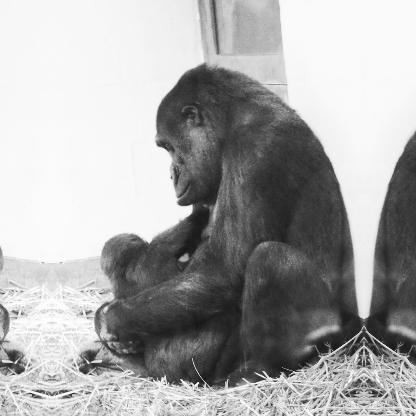Monkey: (102, 56, 358, 395)
